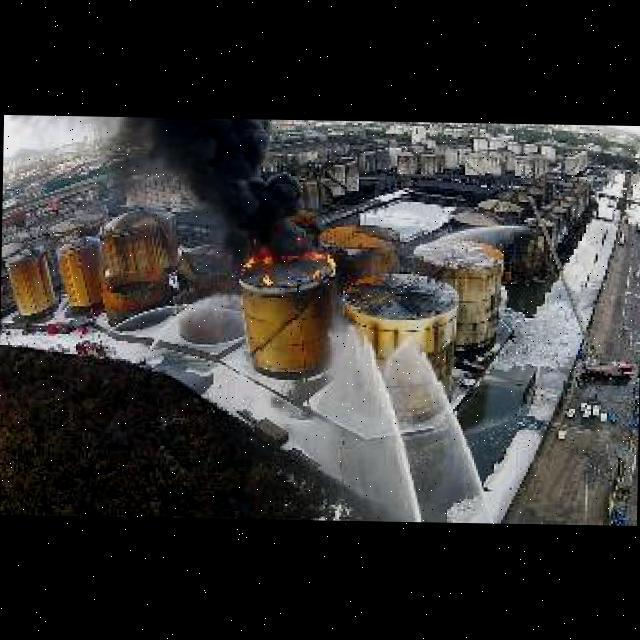Fire: (303, 246, 325, 258), (241, 251, 257, 267), (259, 267, 273, 283), (327, 250, 339, 268), (261, 253, 271, 263), (311, 268, 321, 278)
Smoke: (220, 160, 313, 248), (168, 116, 220, 219), (97, 114, 170, 181), (219, 119, 290, 162), (6, 113, 96, 141)
